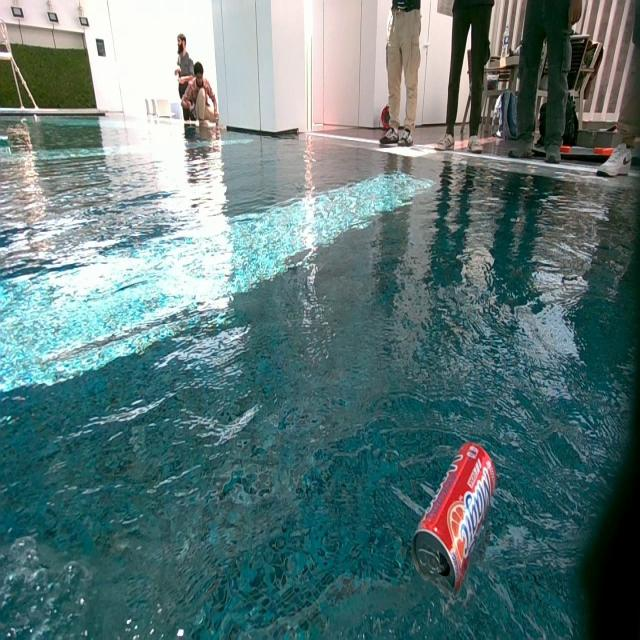Cans: (414, 442, 501, 598), (20, 118, 27, 124), (34, 114, 37, 121)
